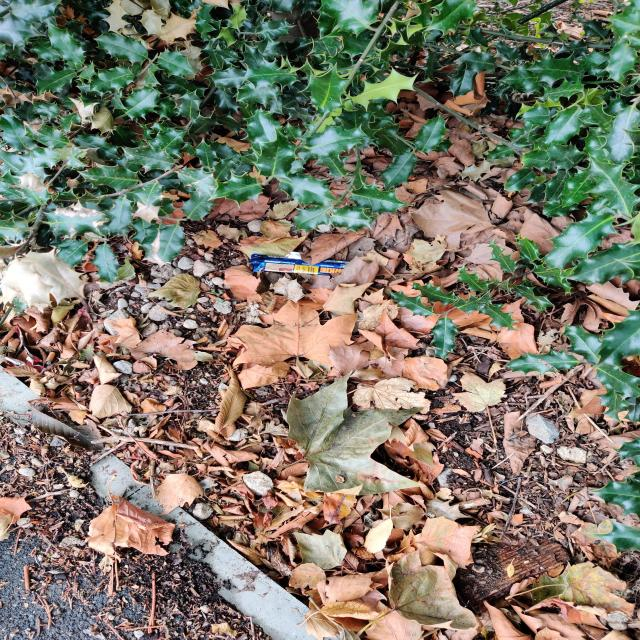litter: (247, 254, 353, 278)
